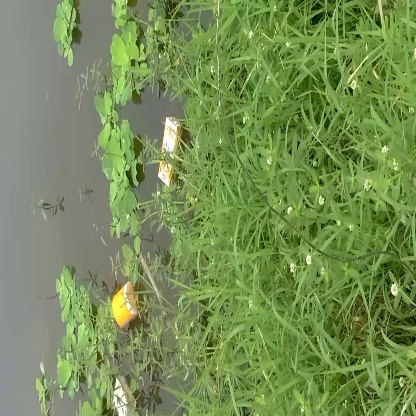bottle: (108, 279, 144, 341)
milk-box: (155, 116, 186, 187)
